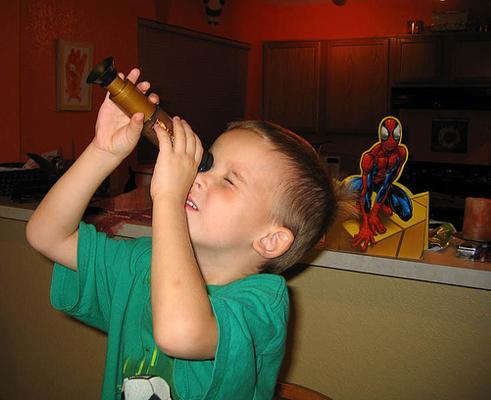person: (25, 69, 332, 399)
